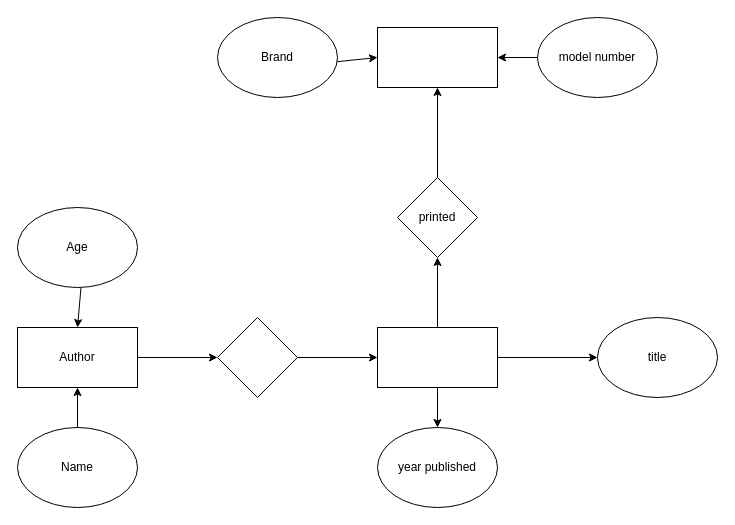
Some shapes in this 735 by 525 pixel diagram are drawn without their labels. Each missing label, with the box of its shape:
Books: (376, 326, 498, 388)
Printer: (376, 26, 498, 88)
writes: (216, 316, 298, 398)
